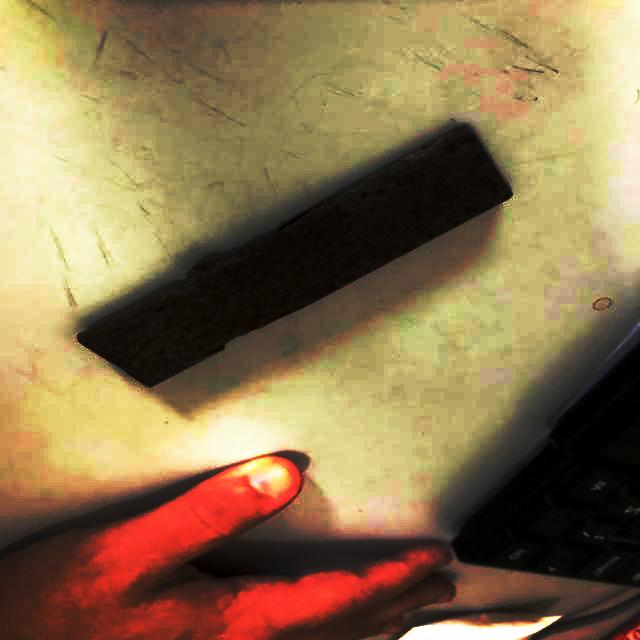Corrosion: (76, 122, 512, 389)
